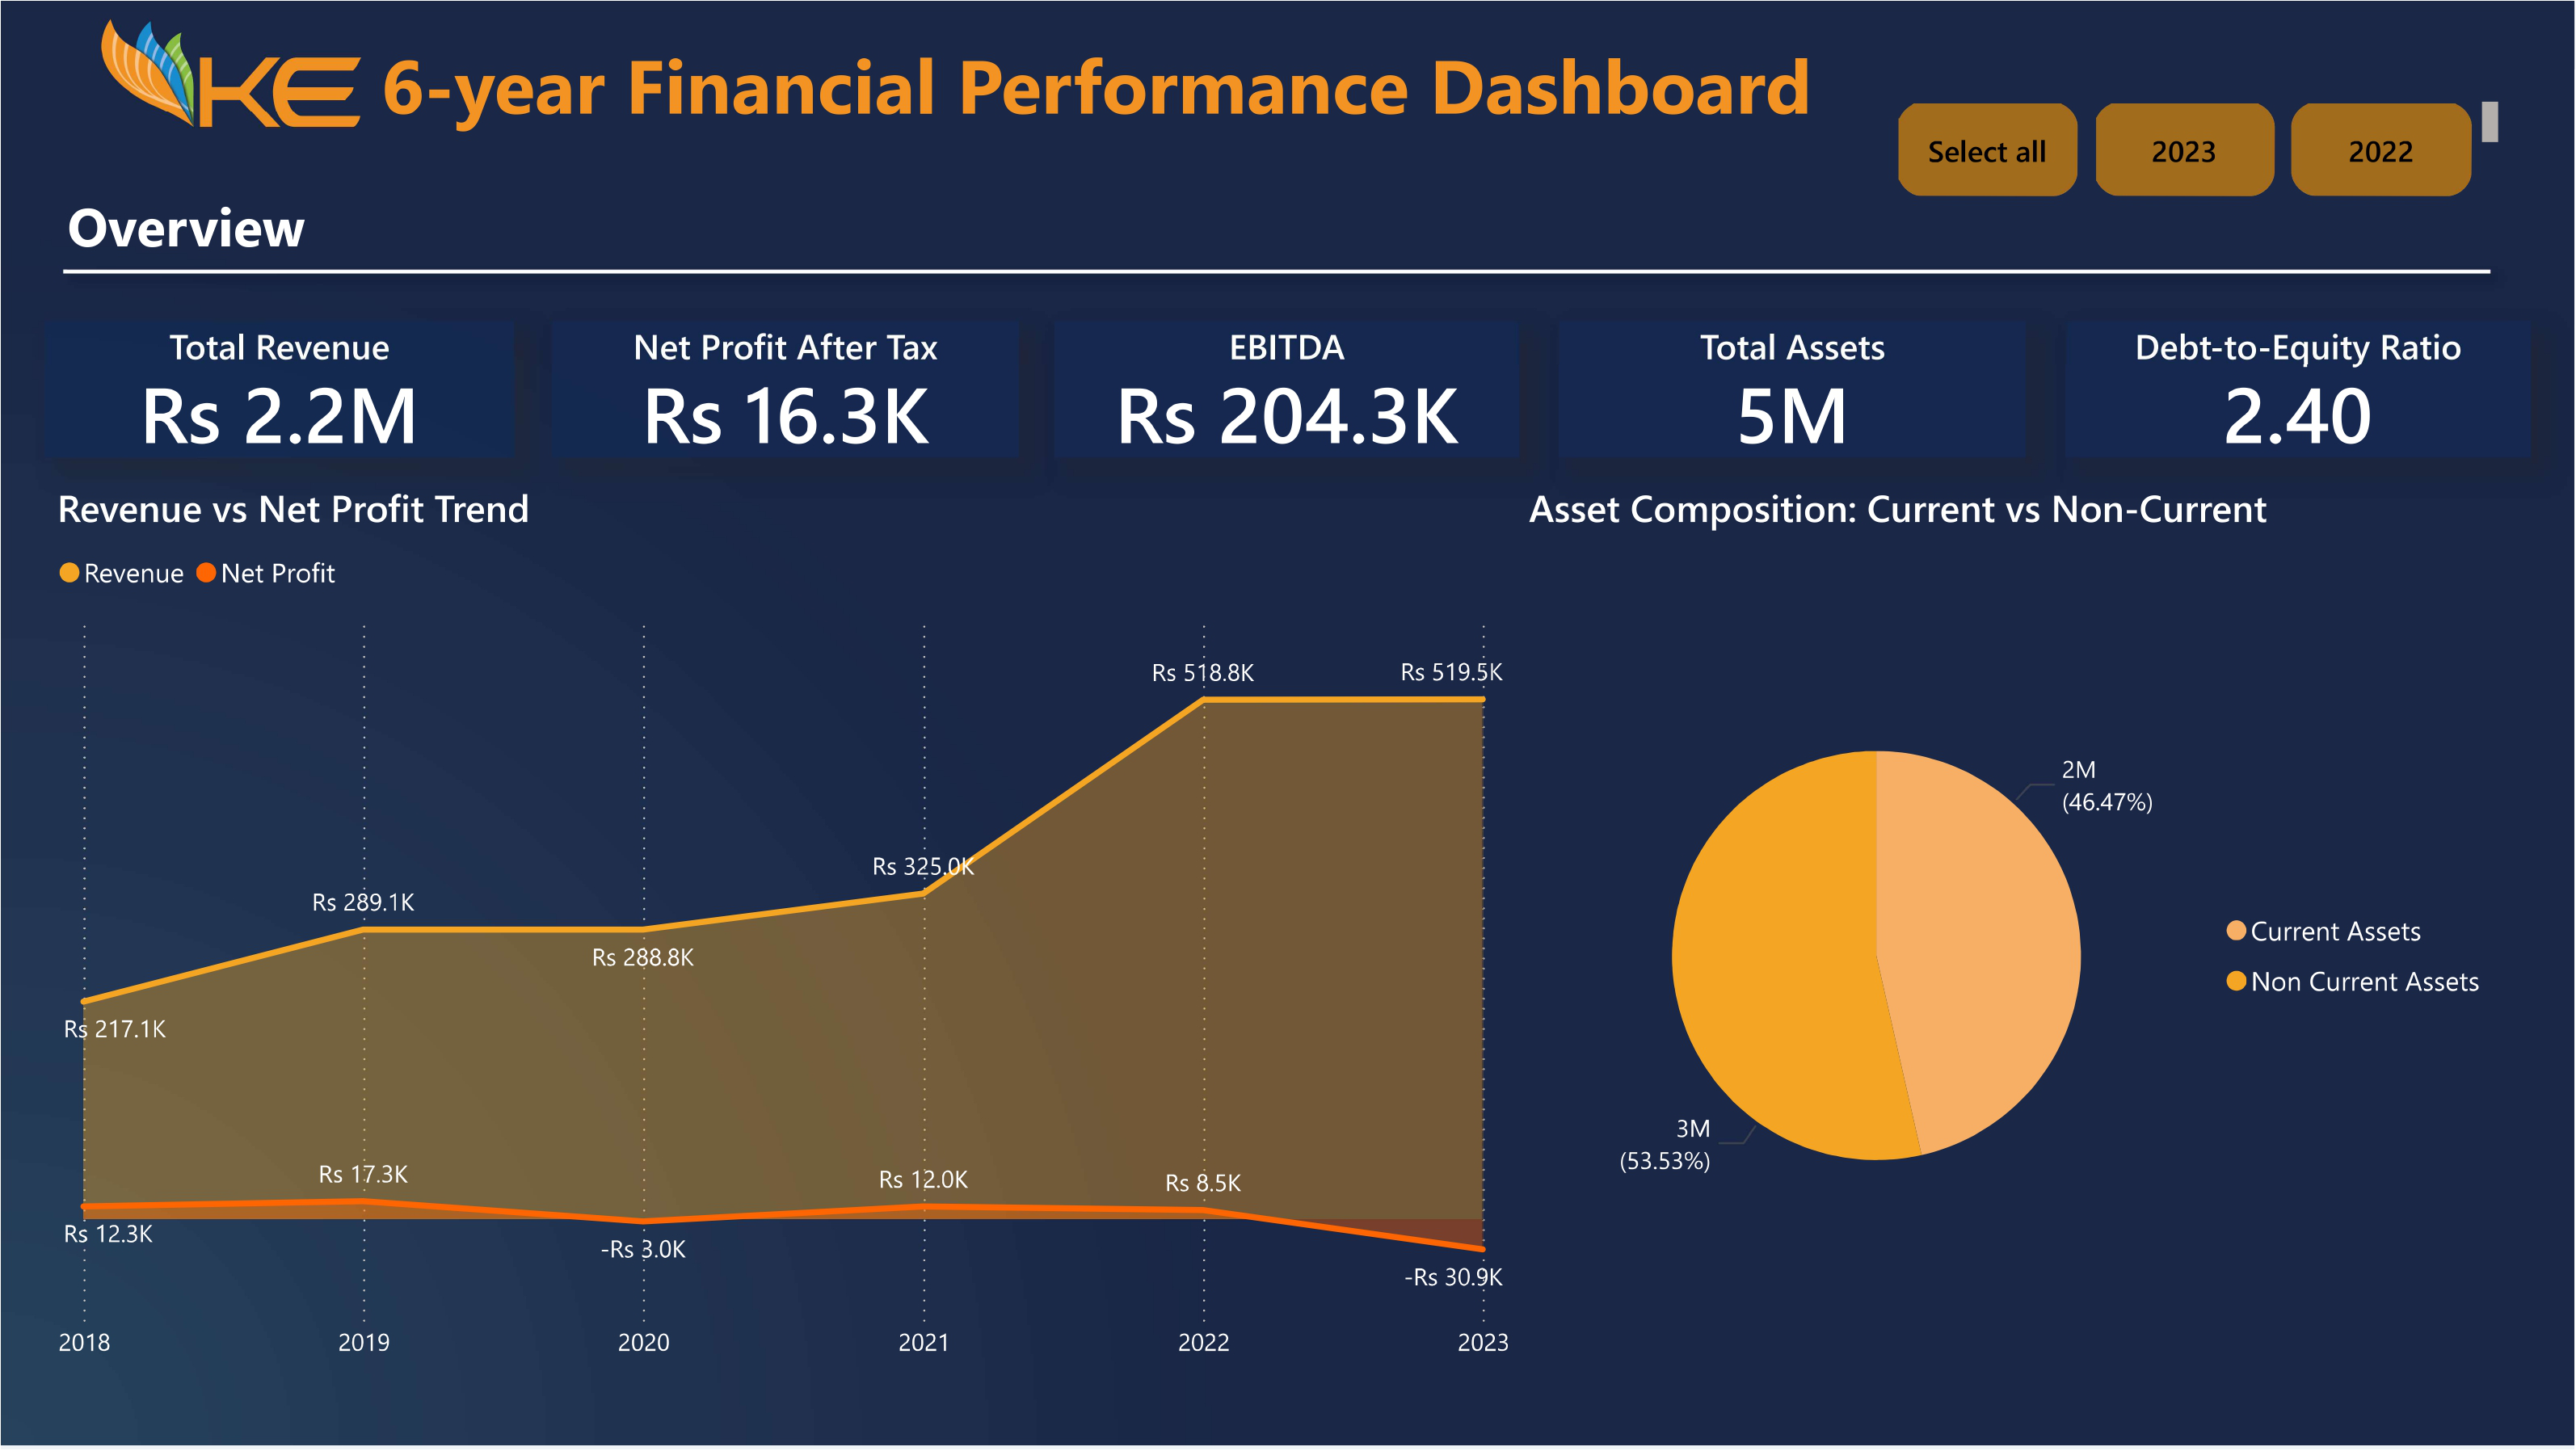

Layout of this report page (visuals, bound fields, positions):
{"tool":"powerbi","page":{"name":"Overview","canvas":[1280,720],"ordinal":0},"visuals":[{"type":"card","title":"Total Revenue","fields":{"Values":["Sum(DataSet.Revenue)"]},"box":[21.9,159.4,232.9,67.2],"z":0},{"type":"card","title":"Net Profit After Tax","fields":{"Values":["Sum(DataSet.Profit After Tax)"]},"box":[273.5,159.4,232.9,67.2],"z":1000},{"type":"card","title":"EBITDA","fields":{"Values":["Sum(DataSet.EBITDA)"]},"box":[523.6,159.4,231.3,67.2],"z":2000},{"type":"card","title":"Total Assets","fields":{"Values":["Sum(DataSet.Total Assets)"]},"box":[775.2,159.4,231.3,67.2],"z":3000},{"type":"card","title":"Debt-to-Equity Ratio","fields":{"Values":["Avg(DataSet.Debt to Equity)"]},"box":[1026.9,159.4,231.3,67.2],"z":4000},{"type":"lineChart","title":"Revenue vs Net Profit Trend","fields":{"Category":["DataSet.Year ID.Variation.Date Hierarchy.Year"],"Y":["Sum(DataSet.Revenue)","Sum(DataSet.Profit After Tax)"]},"box":[23.4,239.1,731.5,445.5],"z":5000},{"type":"pieChart","title":"Asset Composition: Current vs Non-Current","fields":{"Y":["Sum(DataSet.Current Assets)","Sum(DataSet.Non Current Assets)"]},"box":[754.9,239.1,492.3,445.5],"z":6000},{"type":"image","box":[45.3,0,139.1,71.9],"z":7000},{"type":"textbox","box":[184.4,10.9,850.3,64.1],"z":8000},{"type":"advancedSlicerVisual","fields":{"Values":["DataSet.Year ID"]},"box":[937.8,45.3,309.5,57.8],"z":9000},{"type":"shape","box":[21.9,87.5,1225.4,93.8],"z":10000},{"type":"textbox","box":[28,88,250,50],"z":11000}]}

Visuals, with their boxes in screenshot pixels (x1, y1, x2, y2), scaled from the page's 1280x720 canvas onto the 2576x1451 screenshot:
"Total Revenue" card: Rect(44, 322, 513, 456)
"Net Profit After Tax" card: Rect(550, 322, 1019, 456)
"EBITDA" card: Rect(1054, 322, 1519, 456)
"Total Assets" card: Rect(1560, 322, 2026, 456)
"Debt-to-Equity Ratio" card: Rect(2067, 322, 2532, 456)
"Revenue vs Net Profit Trend" lineChart: Rect(47, 482, 1519, 1380)
"Asset Composition: Current vs Non-Current" pieChart: Rect(1519, 482, 2510, 1380)
image: Rect(91, 0, 371, 145)
textbox: Rect(371, 22, 2082, 151)
advancedSlicerVisual - DataSet.Year ID: Rect(1888, 91, 2511, 208)
shape: Rect(44, 176, 2511, 365)
textbox: Rect(57, 178, 559, 278)
